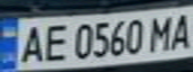0: (124, 16, 151, 55), (69, 20, 93, 61)
5: (90, 19, 112, 60)
6: (109, 17, 130, 57)
A: (15, 21, 48, 64), (166, 9, 193, 51)
E: (39, 20, 72, 63)
M: (145, 11, 178, 53)
